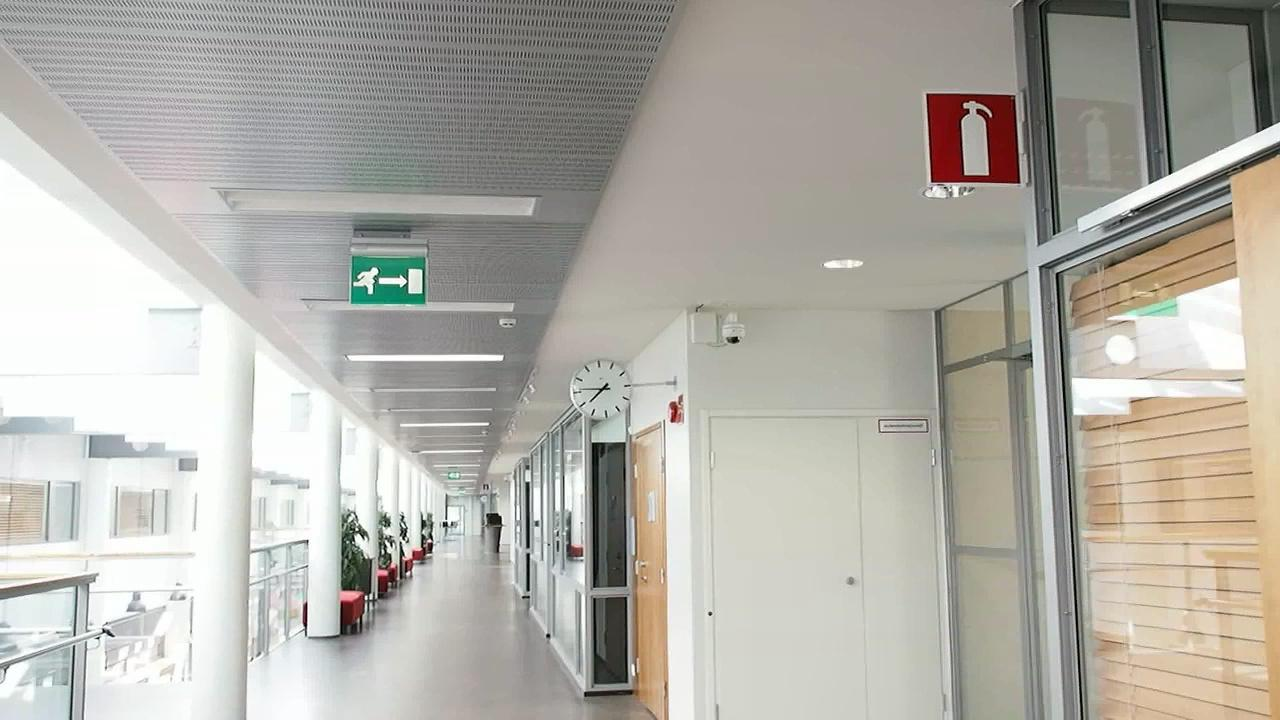clock: (568, 361, 632, 420)
exit: (342, 253, 427, 309)
fireextinguisher: (932, 87, 1023, 186)
